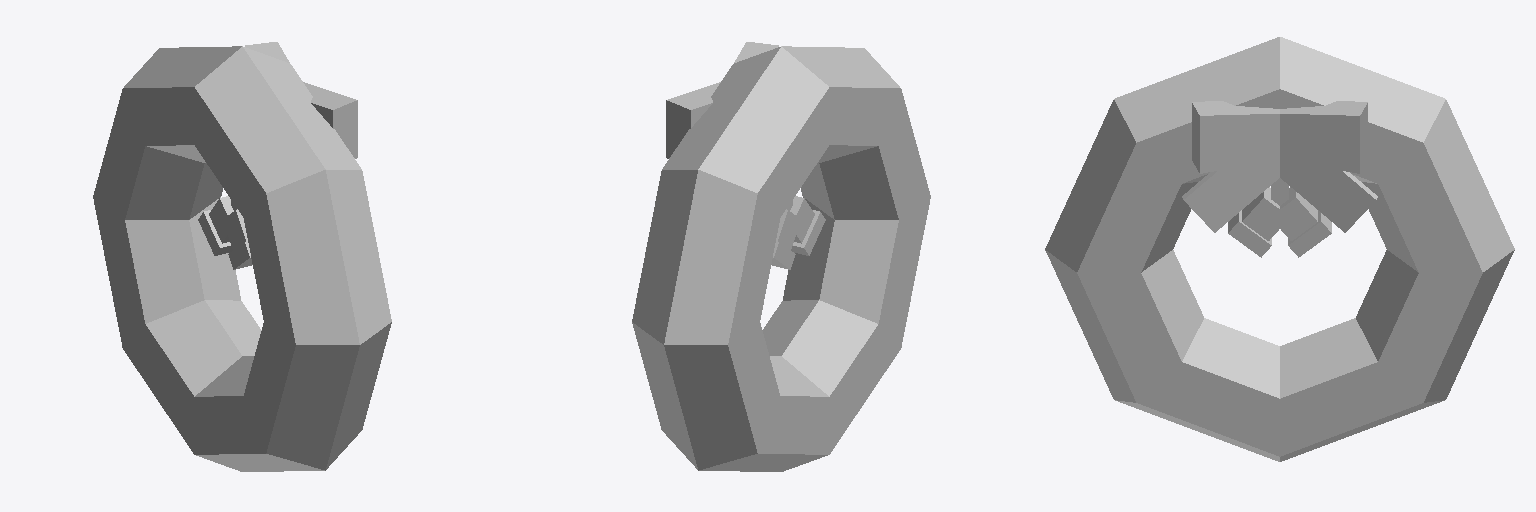
File: ring.obj
3 renders of one model, left to right at view 1: azimuth 30°, elevation 25°; view 2: azimuth 150°, elevation 25°; view 3: azimuth 270°, elevation 25°, orthographic.
Visible parts, largest first — view 1: Cube_2; view 2: Cube_2; view 3: Cube_2.
Boxes of the visible parts, x1=… form: Cube_2: x1=93, y1=42, x2=391, y2=471; Cube_2: x1=632, y1=42, x2=930, y2=471; Cube_2: x1=1045, y1=37, x2=1514, y2=461.
Size of the model in its own units: 0.3326 by 1.1 by 1.1.